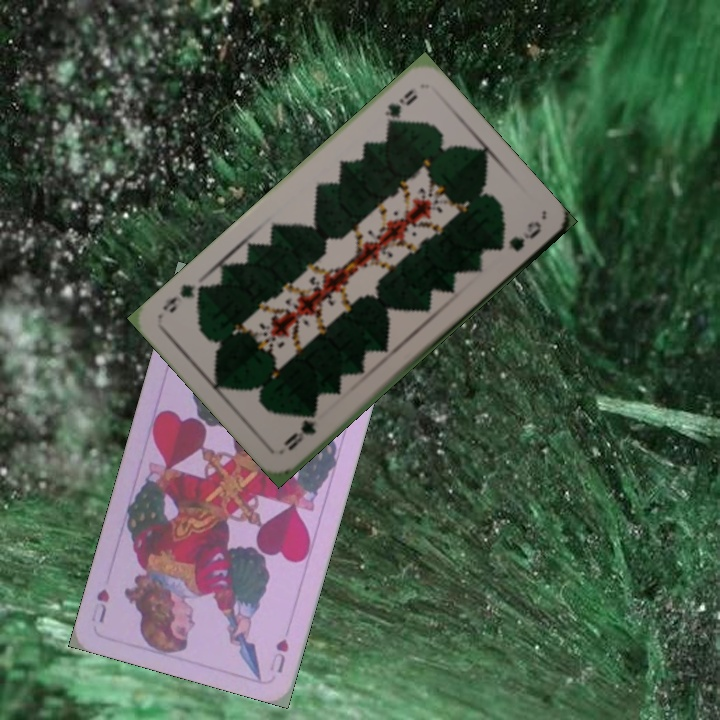G9: (380, 85, 420, 132), (279, 408, 320, 453)
HU: (265, 634, 291, 676)
